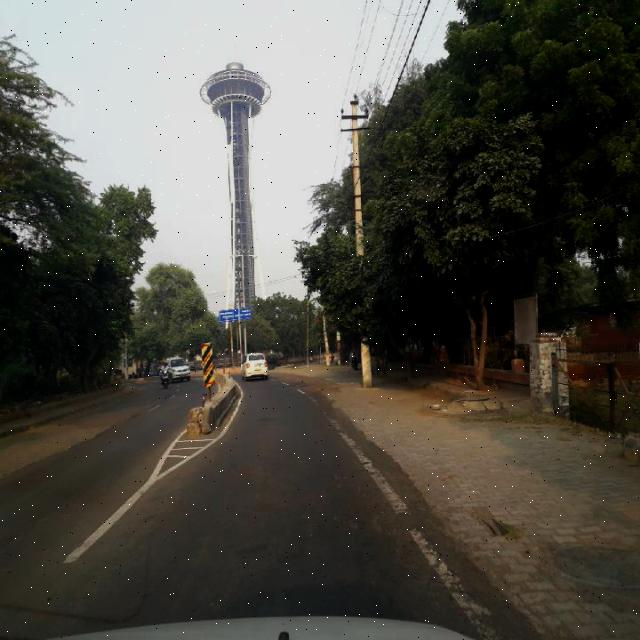D44: (330, 415, 416, 522), (410, 529, 496, 635)
